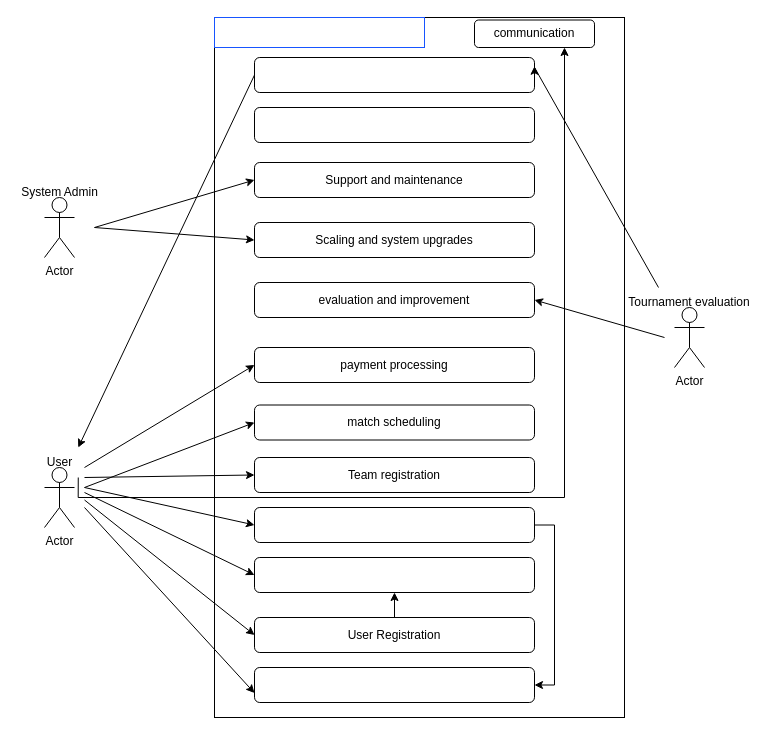
The diagram is 769 pixels wide and 735 high, and some of its shapes have lost their labels. The box of each missing label's shape, as (x1, y1, x2, y2) in pixels:
Data Management: (254, 666, 534, 702)
Real time updates: (254, 56, 534, 92)
Tournamant management System: (214, 16, 424, 48)
Tournament creation: (254, 506, 534, 542)
User Login: (254, 556, 534, 592)
User Management: (254, 106, 534, 142)
